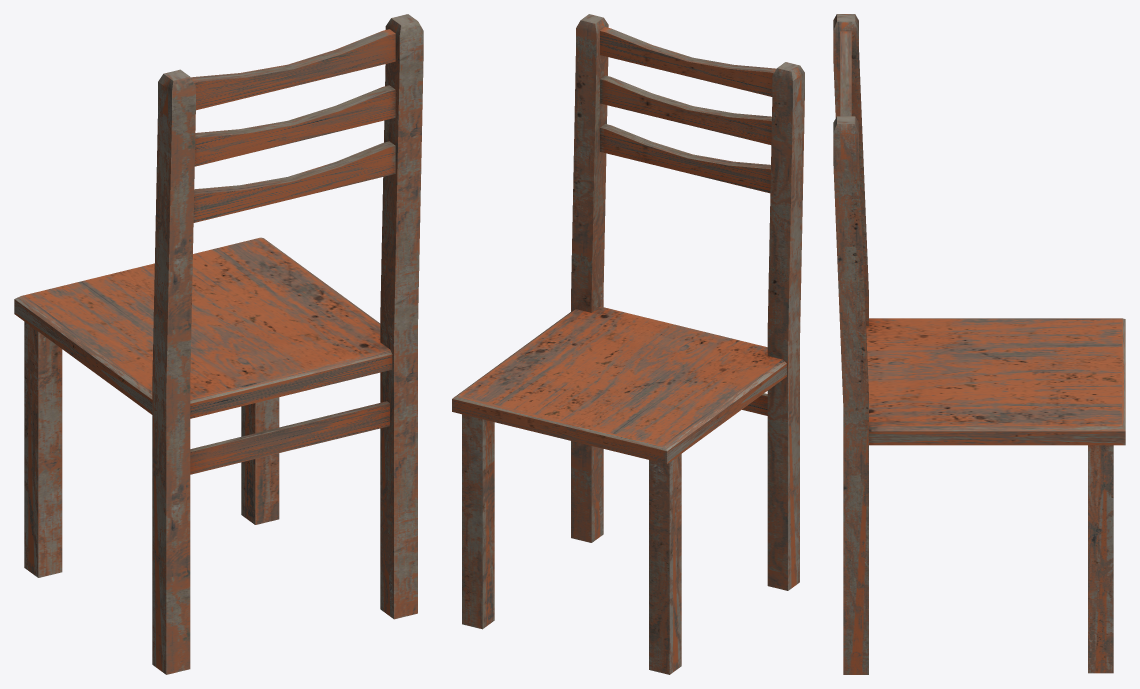
File: chair.dae
3 views of the same model, side by side, from view 1: azimuth 30°, elevation 25°; view 2: azimuth 150°, elevation 25°; view 3: azimuth 270°, elevation 25° (orthographic). The views are drawn at different scales.
Parts seen in each view (by area): view 1: Object_3; view 2: Object_3; view 3: Object_3.
Part boxes in pixels (x1,y1,x2,y2): Object_3: (14,14,423,674); Object_3: (452,14,804,674); Object_3: (833,14,1125,674).
Size of the model in its own units: 0.4504 by 0.4919 by 1.02.
Materials: 1 (1 with a texture image).
